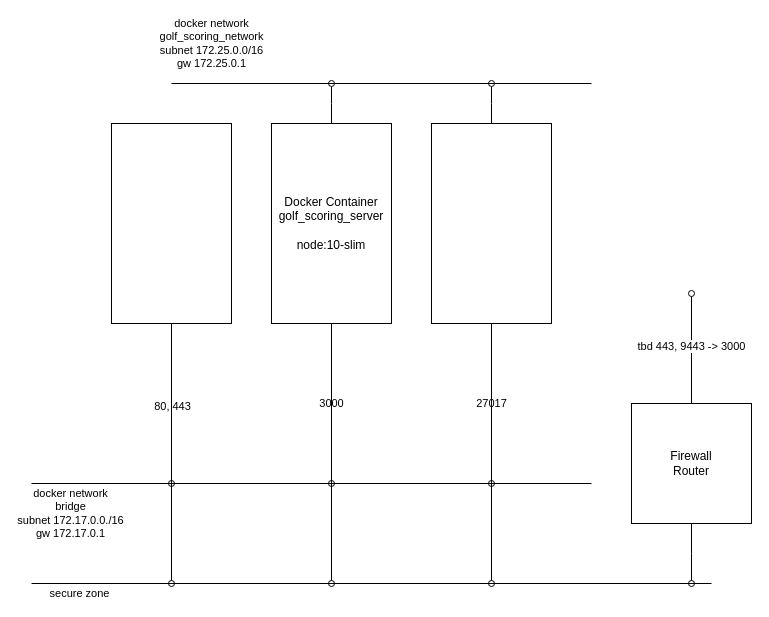
The diagram is 769 pixels wide and 617 high, and some of its shapes have lost their labels. Here are the shapes that lost their labels. From the top down, the centre of each, then its label:
point (171, 223): Docker Container golf_scoring_ui nginx:latest
point (491, 223): Docker Container golf_scoring_db mongo:latest
